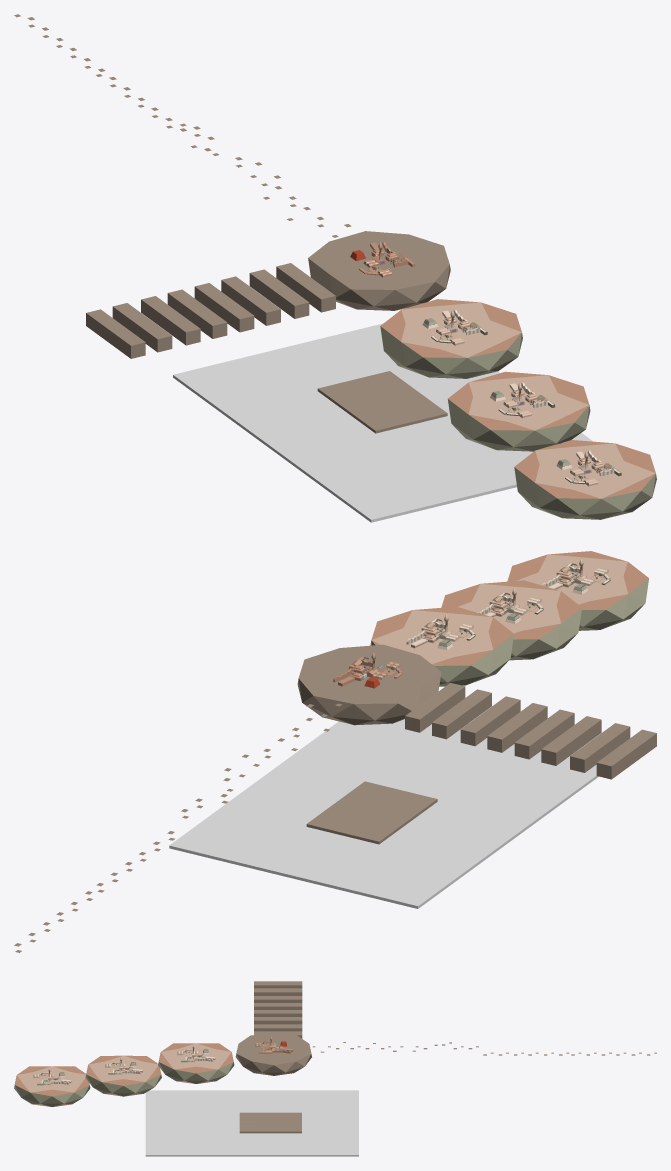
Rendered from bad2.glb.
3 renders of one model, top to bottom at view 1: azimuth 30°, elevation 25°; view 2: azimuth 150°, elevation 25°; view 3: azimuth 270°, elevation 25°, orthographic. The views are drawn at different scales.
Parts seen in each view (by area): view 1: Cube.107, Icosphere.016, Icosphere.032, Icosphere.024, Icosphere.008, Cube, Cube.284, Cube.288, Cube.290, Cube.286, Cube.287, Cube.289 (+2 smaller); view 2: Cube.107, Icosphere.008, Icosphere.016, Icosphere.032, Icosphere.024, Cube, Cube.288, Cube.290, Cube.284, Cube.286, Cube.285, Cube.287 (+2 smaller); view 3: Cube.107, Icosphere.024, Icosphere.016, Icosphere.008, Icosphere.032, Cube, Cube.289, Cube.284, Cube.285, Cube.290, Cube.286, Cube.287 (+1 smaller).
Part boxes in pixels (<box>): Cube.107: <box>173,323,592,522</box>; Icosphere.016: <box>380,299,522,378</box>; Icosphere.032: <box>514,440,656,519</box>; Icosphere.024: <box>448,371,590,451</box>; Icosphere.008: <box>308,231,450,310</box>; Cube: <box>317,371,447,433</box>; Cube.284: <box>249,269,309,318</box>; Cube.288: <box>141,296,200,345</box>; Cube.290: <box>86,309,145,358</box>; Cube.286: <box>194,283,254,332</box>; Cube.287: <box>167,289,227,338</box>; Cube.289: <box>112,303,172,352</box>; Cube.107: <box>169,719,598,908</box>; Icosphere.008: <box>297,644,441,725</box>; Icosphere.016: <box>370,606,513,686</box>; Icosphere.032: <box>507,551,648,630</box>; Icosphere.024: <box>441,580,581,660</box>; Cube: <box>306,781,437,844</box>; Cube.288: <box>541,716,601,765</box>; Cube.290: <box>596,729,656,779</box>; Cube.284: <box>432,689,491,739</box>; Cube.286: <box>487,703,547,752</box>; Cube.285: <box>460,696,520,746</box>; Cube.287: <box>514,709,574,759</box>; Cube.107: <box>145,1090,358,1156</box>; Icosphere.024: <box>85,1055,161,1096</box>; Icosphere.016: <box>158,1043,234,1083</box>; Icosphere.008: <box>235,1035,311,1075</box>; Icosphere.032: <box>14,1066,90,1106</box>; Cube: <box>239,1112,301,1133</box>; Cube.289: <box>254,988,302,995</box>; Cube.284: <box>254,1024,302,1031</box>; Cube.285: <box>254,1017,302,1024</box>; Cube.290: <box>254,981,302,988</box>; Cube.286: <box>254,1010,302,1016</box>; Cube.287: <box>254,1003,302,1009</box>.
Bounding box in the file's own units: 1675 × 685 × 4490.
Materials: 5 (4 with a texture image).
